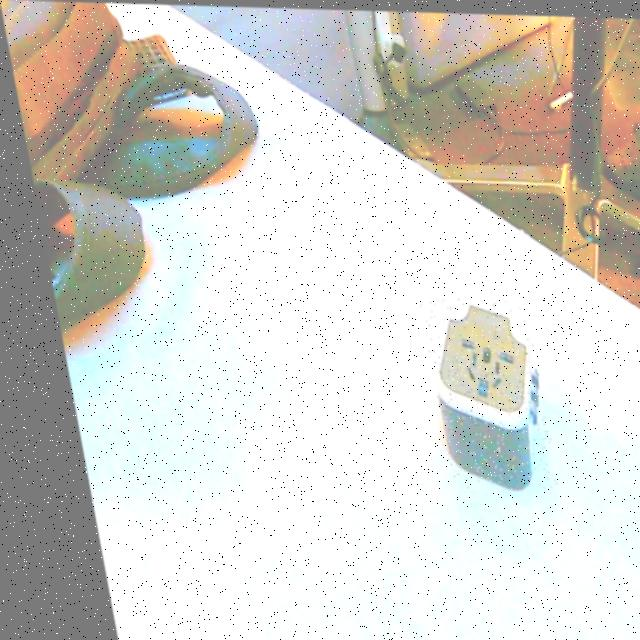adapter: (407, 295, 542, 489)
